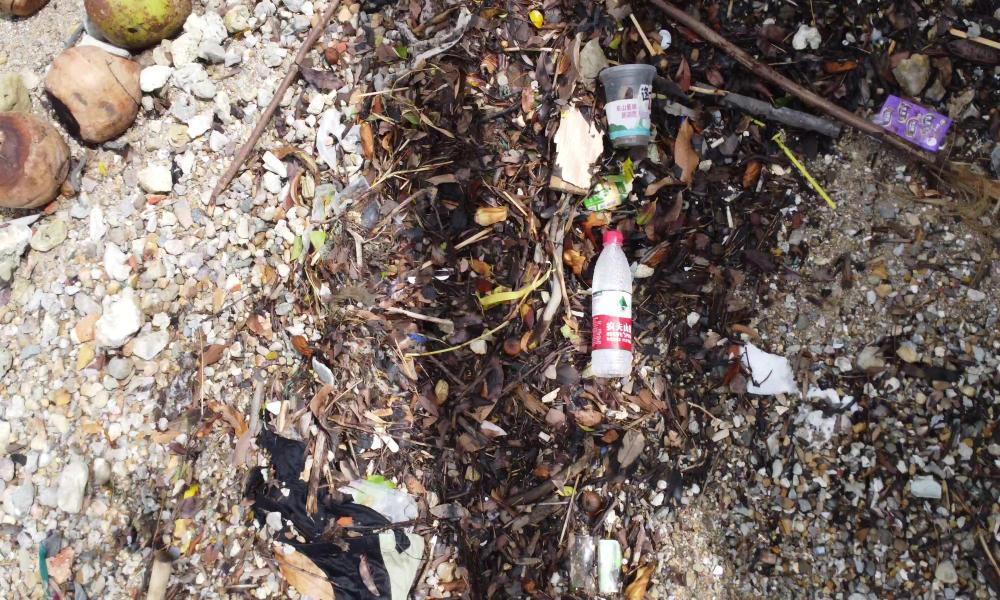carton: (868, 89, 943, 156)
plastic bottle: (582, 223, 638, 385)
plastic container: (597, 45, 658, 153)
